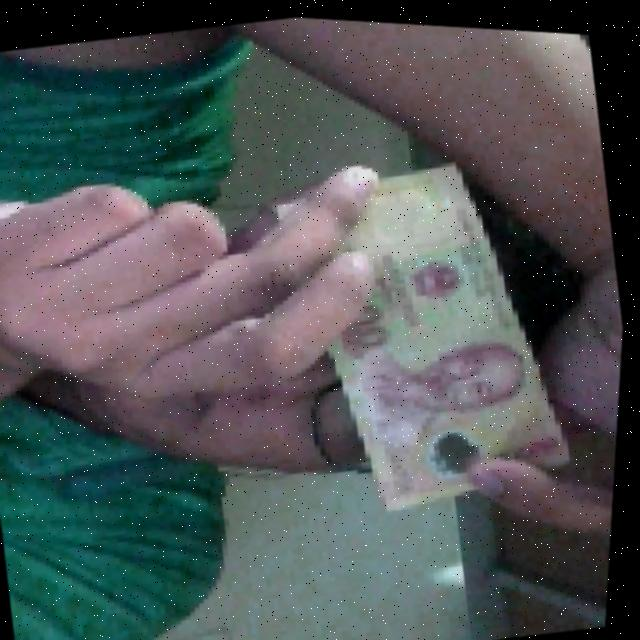10 000 VND: (278, 126, 604, 528)
